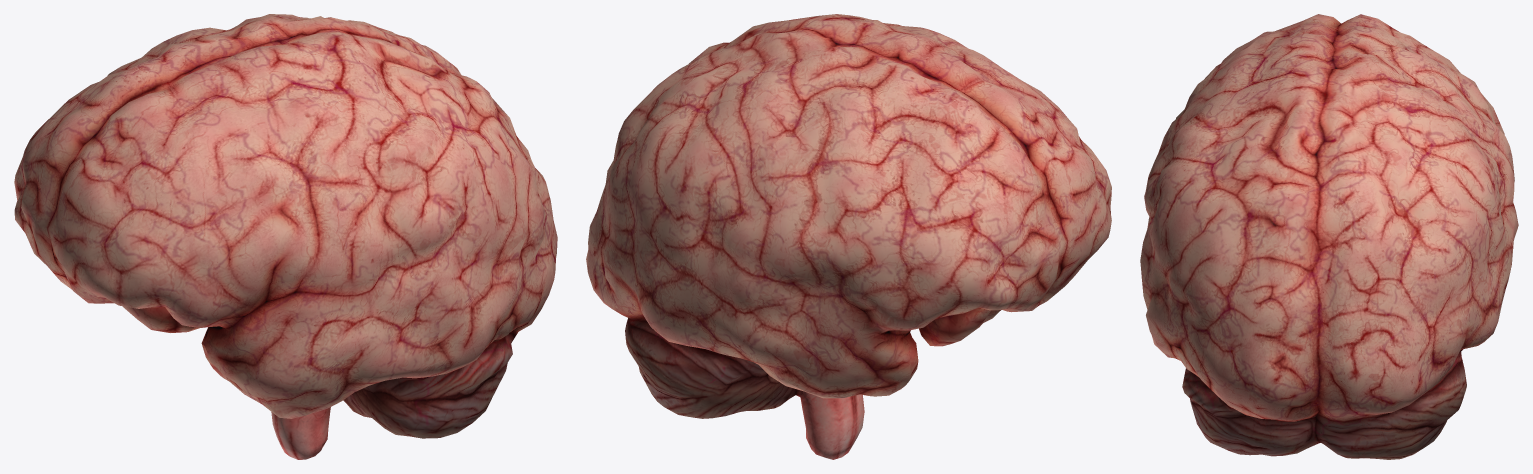
Rendered from brain.glb.
3 renders of one model, left to right at view 1: azimuth 30°, elevation 25°; view 2: azimuth 150°, elevation 25°; view 3: azimuth 270°, elevation 25°, orthographic. The views are drawn at different scales.
Parts seen in each view (by area): view 1: Brain_Unified; view 2: Brain_Unified; view 3: Brain_Unified.
Boxes of the visible parts, x1=… form: Brain_Unified: x1=14, y1=14, x2=557, y2=459; Brain_Unified: x1=586, y1=14, x2=1111, y2=459; Brain_Unified: x1=1140, y1=14, x2=1518, y2=459.
Bounding box in the file's own units: 98.78 × 85.46 × 76.85.
Materials: 3 (3 with a texture image).
